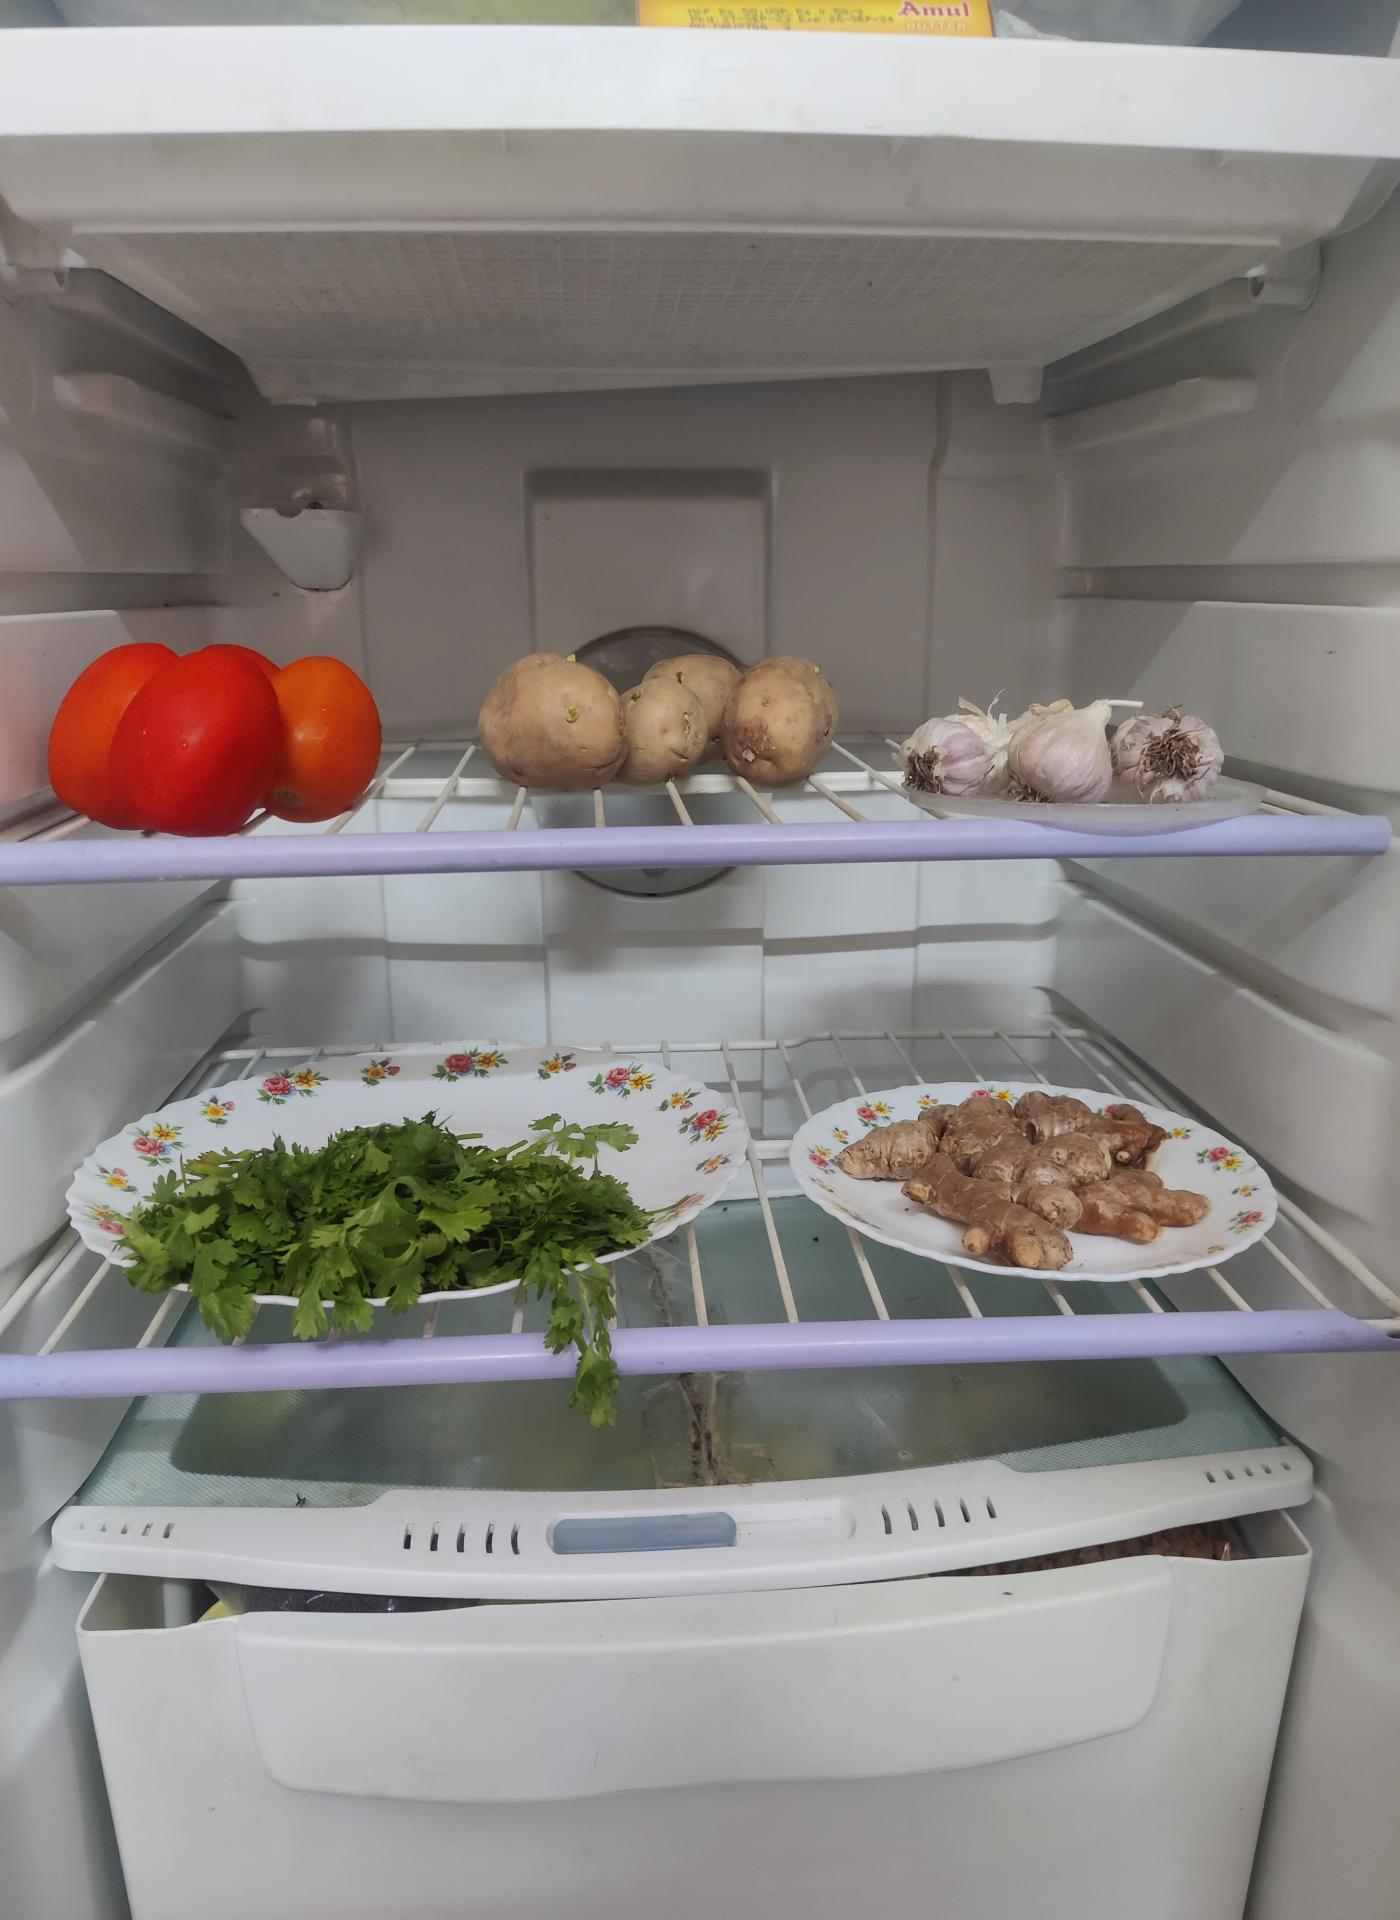coriander: (122, 1124, 656, 1333)
garlic: (909, 687, 1223, 792)
ginger: (835, 1088, 1197, 1269)
potato: (477, 638, 847, 783)
tomato: (46, 635, 389, 824)
